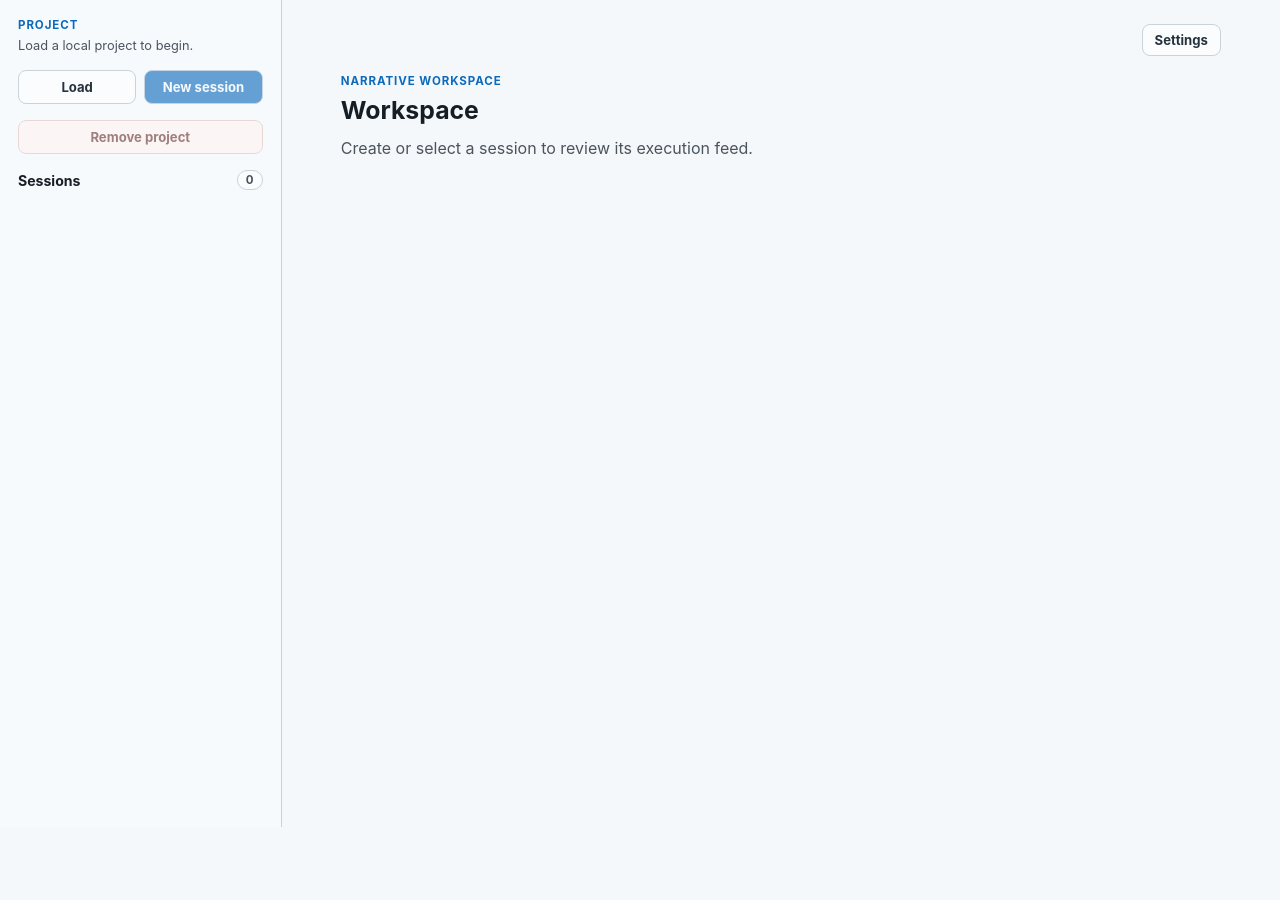
Test: WorkspaceShell › loads a local project from the sidebar and switches to it
Click the button "Load". click: x=77, y=87
box: [18,70,136,104]
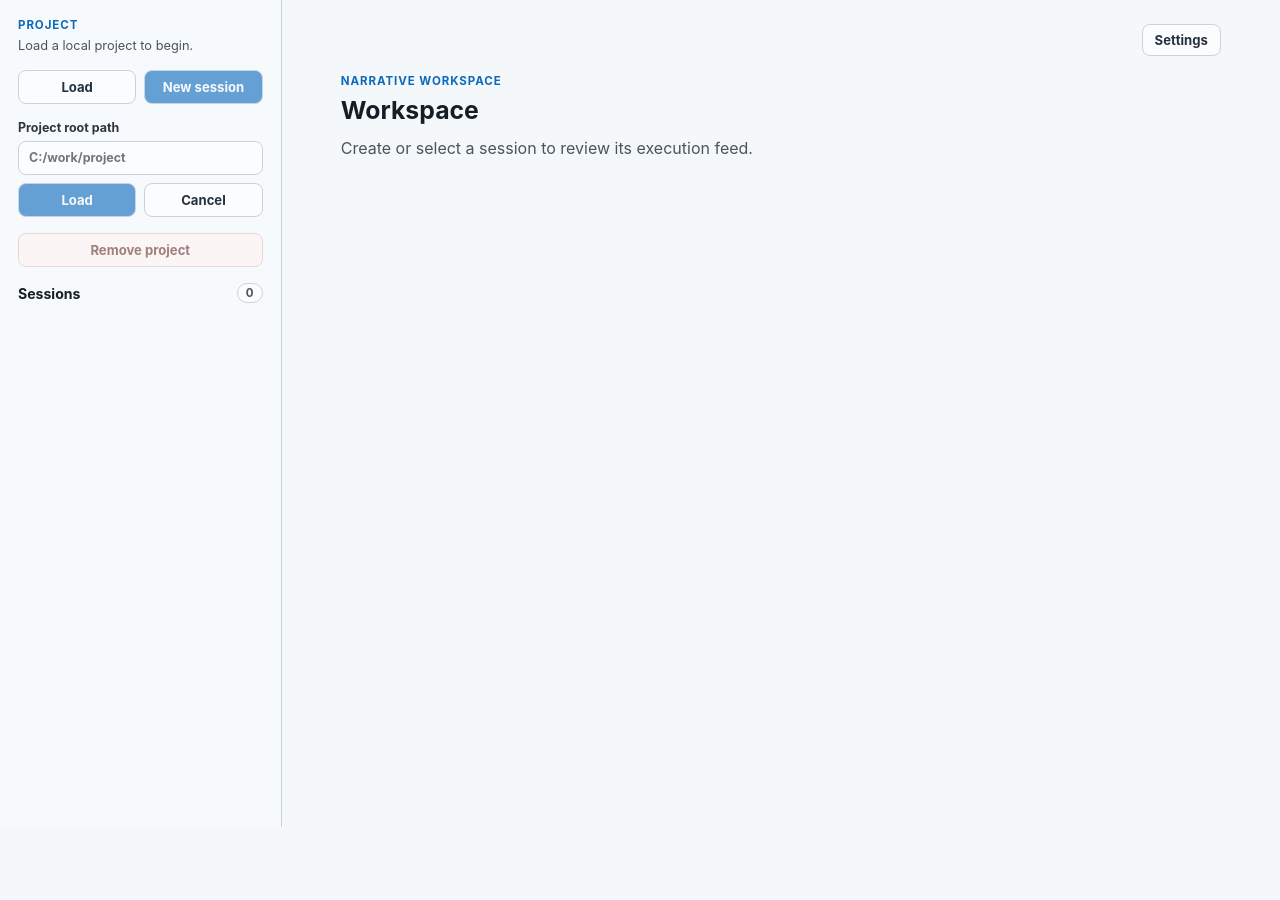
Type "C:/work/loaded-flow" into the field labelled "Project root path". click: x=140, y=158
box: [18,141,263,175]
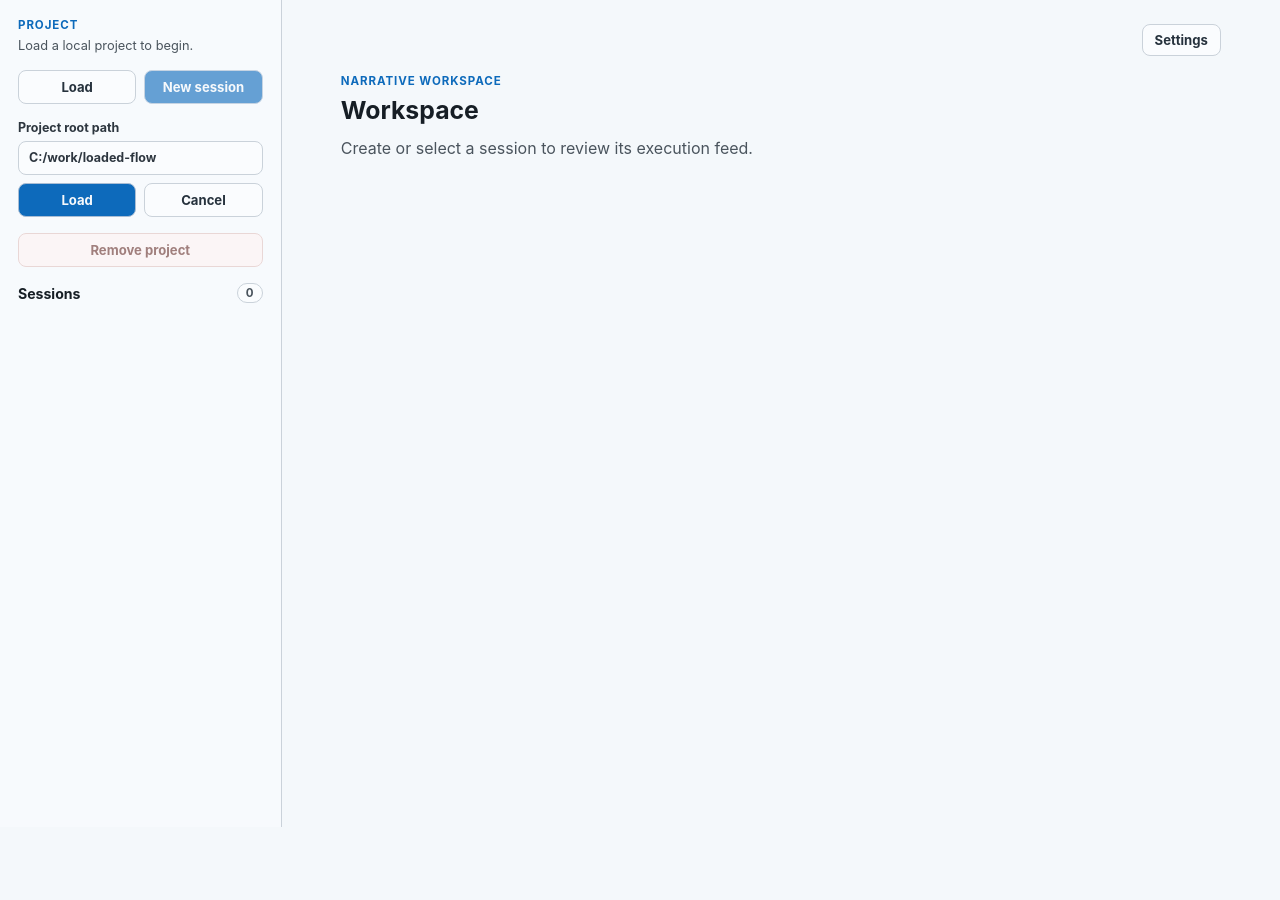
Click the button "Load" below "Project root path". click: x=77, y=200
box: [18,183,136,217]
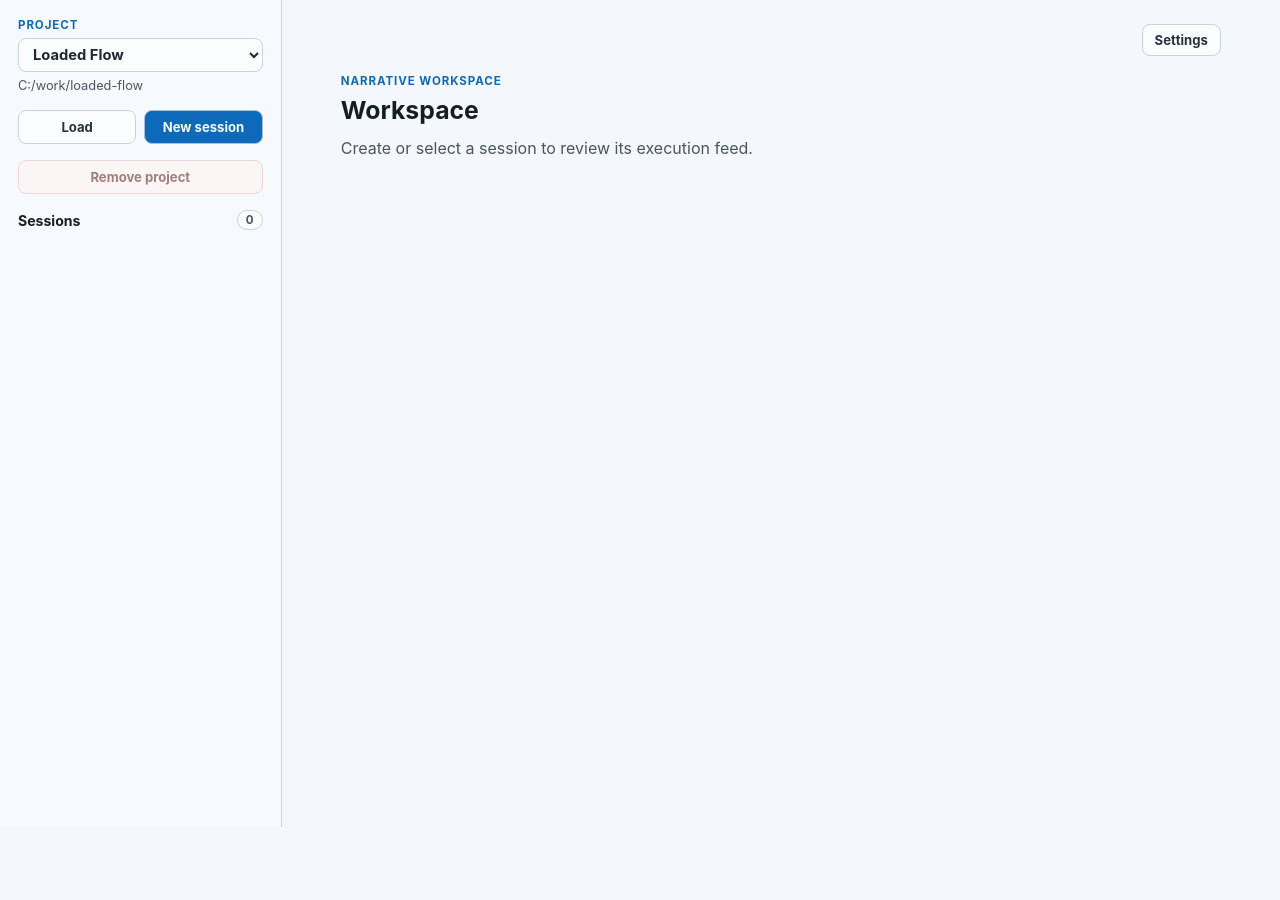
Expected: the dropdown named "Switch project" shows "Loaded Flow", [18,38,263,72]
Expected: the text "C:/work/loaded-flow" is shown, [18,78,143,93]
Expected: the button "New session" is enabled, [144,110,263,144]
